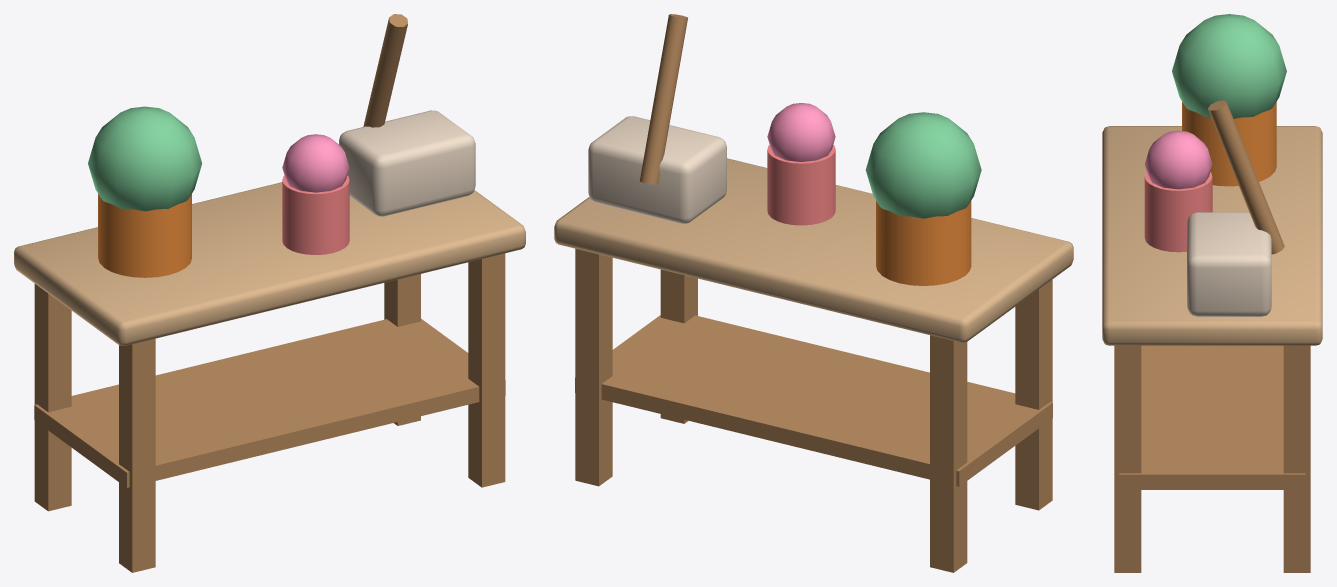
Rendered from workbench.glb.
3 views of the same model, side by side, from view 1: azimuth 30°, elevation 25°; view 2: azimuth 150°, elevation 25°; view 3: azimuth 270°, elevation 25° (orthographic).
Visible parts, largest first — view 1: workbench; view 2: workbench; view 3: workbench.
Part boxes in pixels (<box>): workbench: <box>14,14,525,572</box>; workbench: <box>554,14,1073,572</box>; workbench: <box>1102,14,1322,572</box>.
Bounding box in the file's own units: 1.4 × 1.45 × 0.65.
